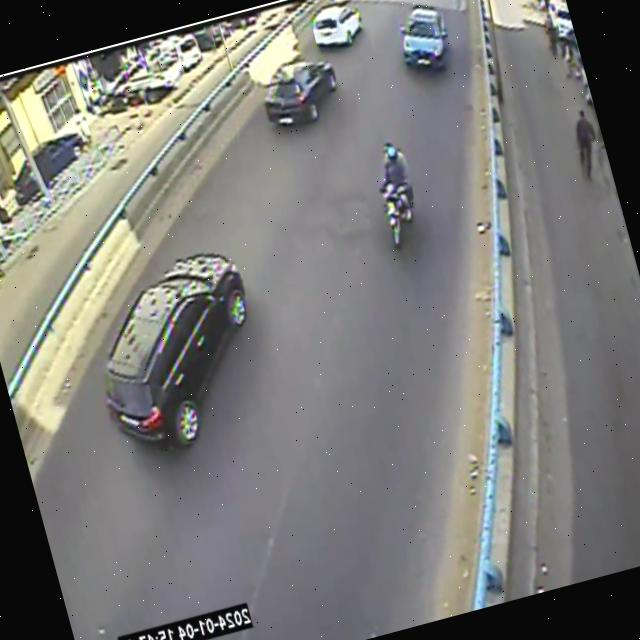car: (107, 252, 246, 445), (248, 27, 298, 86), (34, 132, 84, 184), (34, 132, 83, 184), (15, 160, 39, 205), (16, 159, 40, 204)
